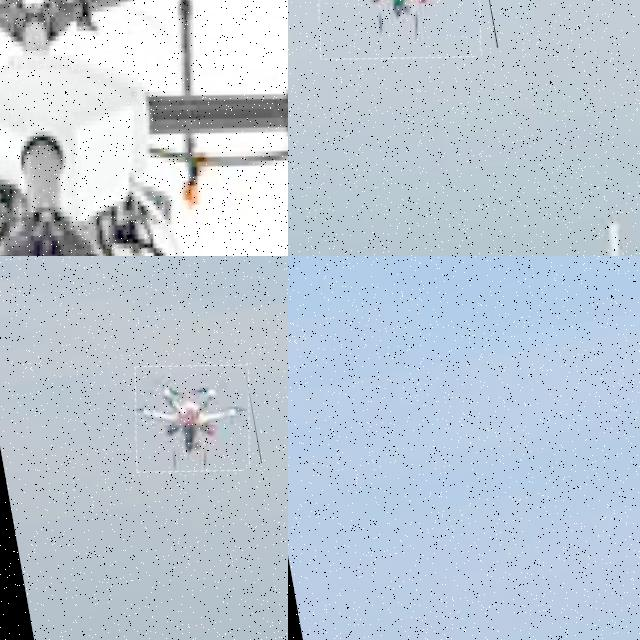0: (123, 352, 262, 484), (299, 0, 498, 76)
drone: (0, 0, 288, 256)
